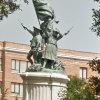Statue: (12, 5, 70, 71)
